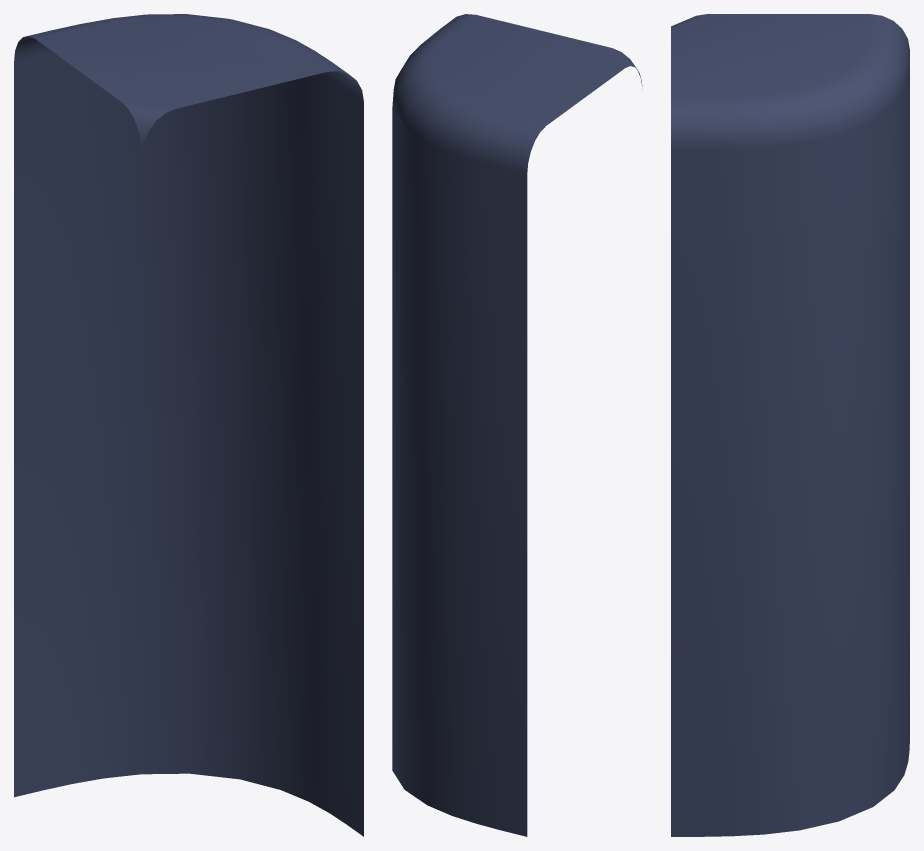
File: SM_Wall_Corner_01.fbx
3 views of the same model, side by side, from view 1: azimuth 30°, elevation 25°; view 2: azimuth 150°, elevation 25°; view 3: azimuth 270°, elevation 25° (orthographic). The views are drawn at different scales.
Parts seen in each view (by area): view 1: SM_Wall_Corner_01; view 2: SM_Wall_Corner_01; view 3: SM_Wall_Corner_01.
Boxes of the visible parts, box(x1,y1,x2,y2) form: SM_Wall_Corner_01: box(14, 14, 363, 836); SM_Wall_Corner_01: box(392, 14, 642, 836); SM_Wall_Corner_01: box(671, 14, 909, 836).
Bounding box in the file's own units: 0.3 × 0.3 × 1.
